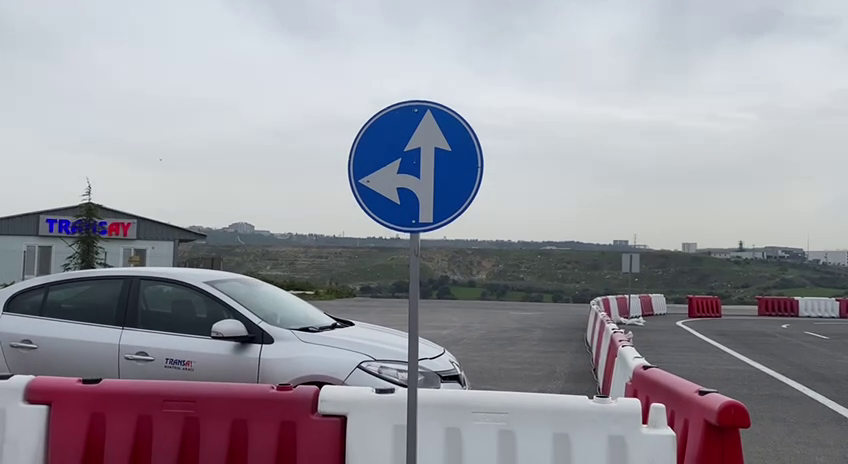forwardAndLeft: (346, 97, 488, 235)
